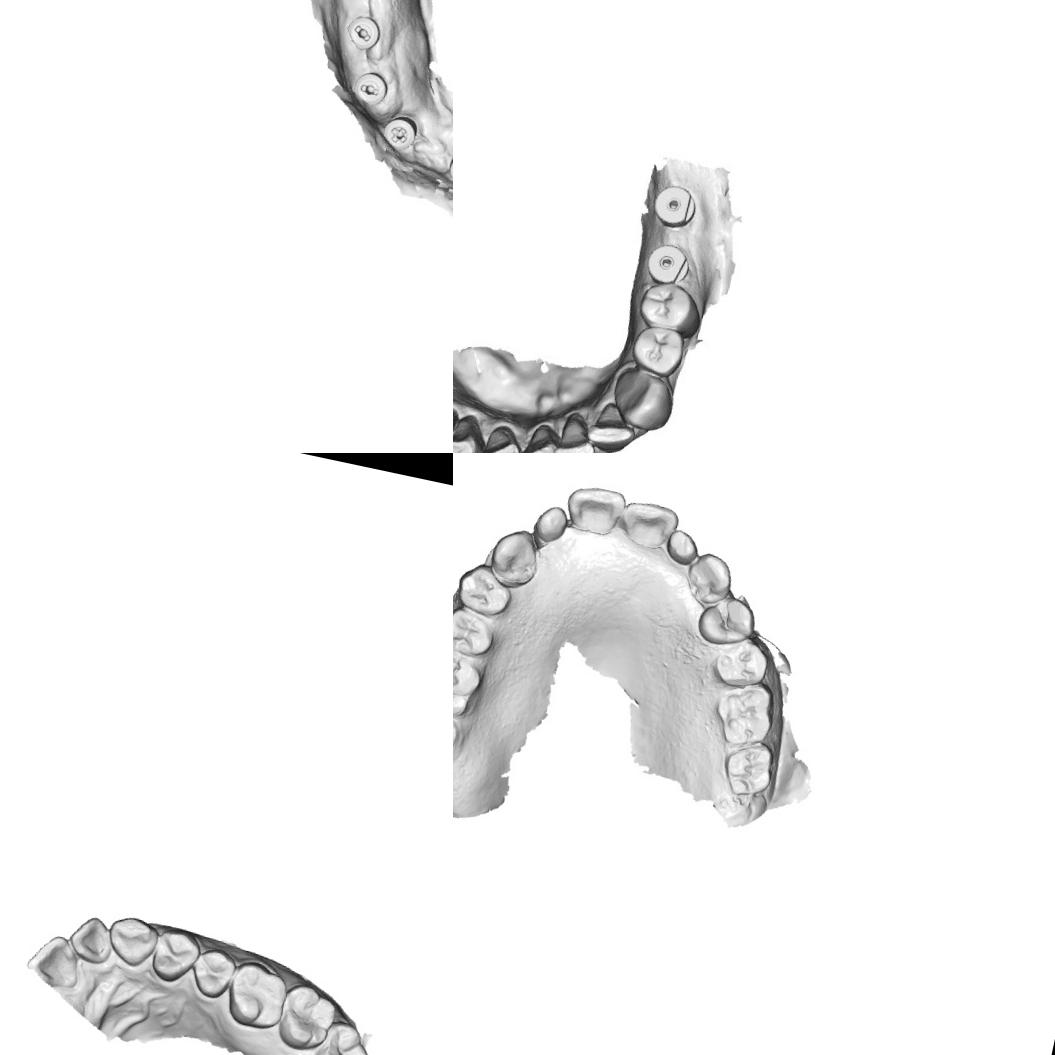canine: (606, 364, 679, 436), (485, 522, 546, 594), (681, 548, 738, 610), (102, 913, 162, 970), (453, 407, 492, 453)
implant: (648, 181, 700, 233), (642, 239, 694, 288)
implant_minus: (343, 11, 387, 58), (348, 65, 392, 110), (442, 145, 453, 191)
implant_plus: (376, 110, 423, 158)
incisor: (22, 929, 88, 992), (560, 480, 628, 541), (615, 495, 681, 554), (583, 398, 641, 453), (64, 912, 118, 967), (528, 500, 572, 554), (550, 408, 602, 453), (662, 526, 704, 570), (472, 421, 527, 453), (516, 419, 566, 453)
molar: (707, 672, 781, 753), (221, 957, 292, 1033), (273, 980, 340, 1055), (718, 735, 779, 802), (308, 1015, 376, 1055), (453, 644, 487, 722), (453, 701, 470, 771)
premolar: (692, 589, 761, 652), (636, 278, 708, 338), (453, 557, 518, 620), (708, 633, 773, 694), (627, 321, 688, 380), (148, 924, 204, 988), (187, 943, 242, 1002), (453, 603, 500, 660)
